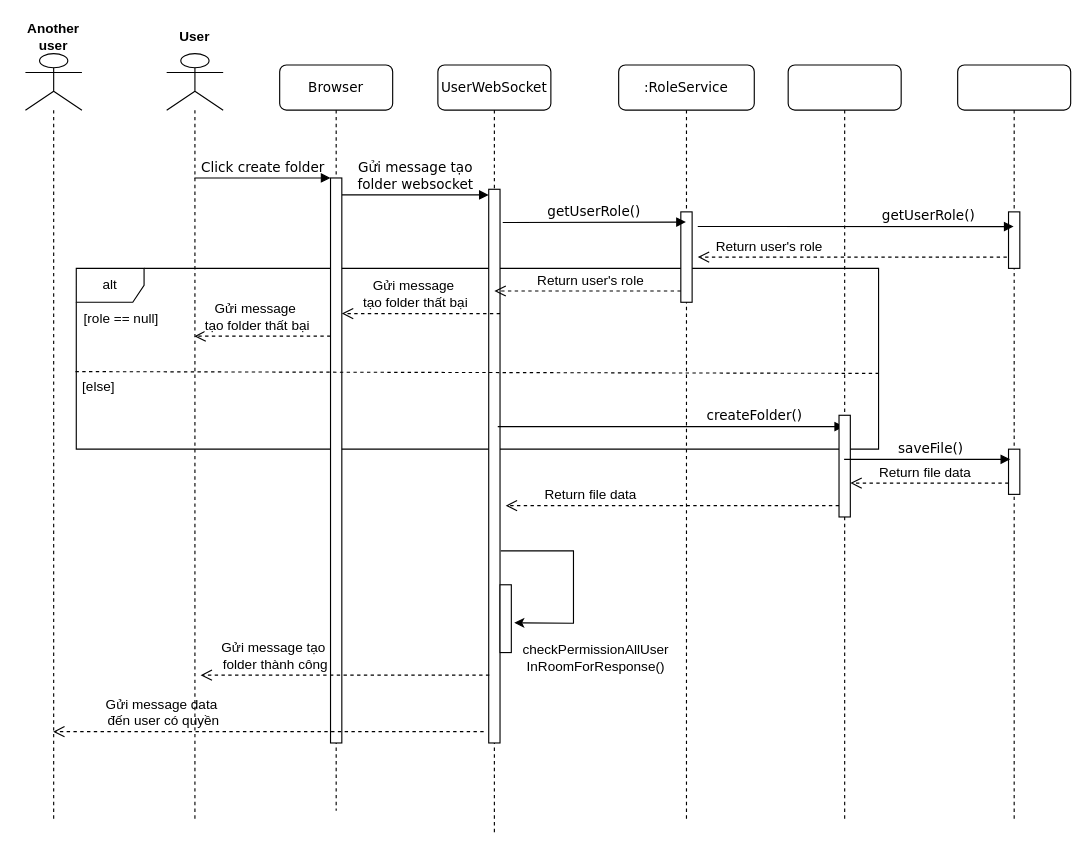
Image size: 1090x853. Some labels were removed from this diagram. The centre of each missing label's shape, as x and y in pixels:
":FileService" goes at point (844, 443).
"DAO" goes at point (1014, 443).
